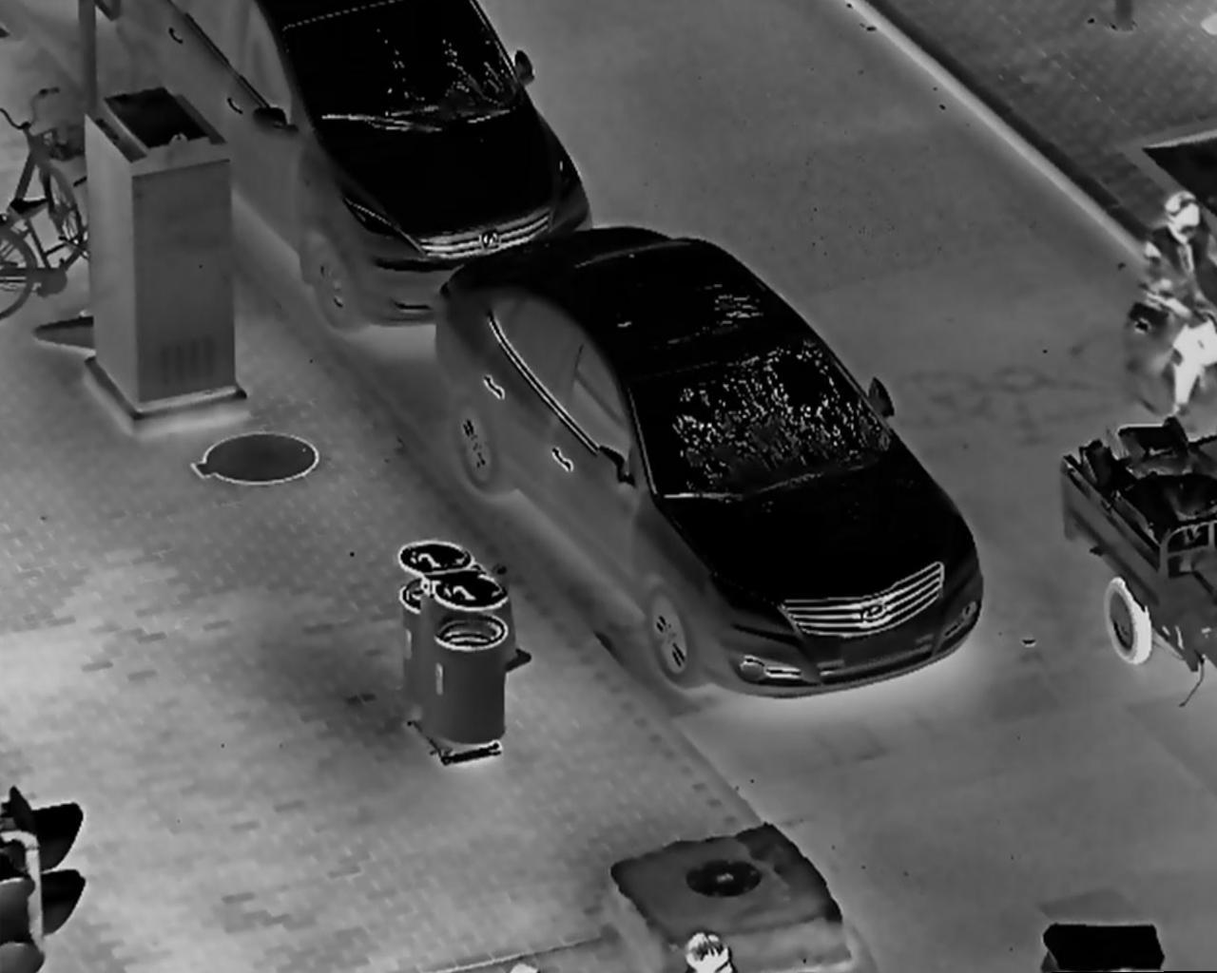person: (1134, 183, 1217, 417)
